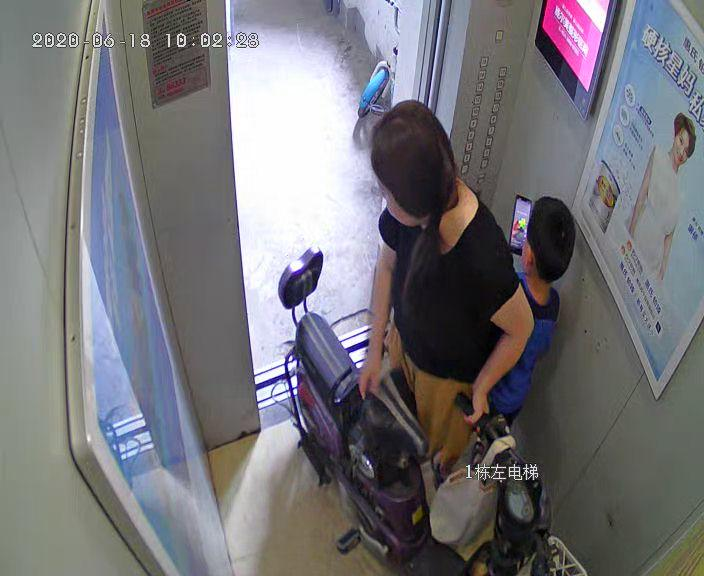Electric-bicycle: (275, 243, 582, 573)
